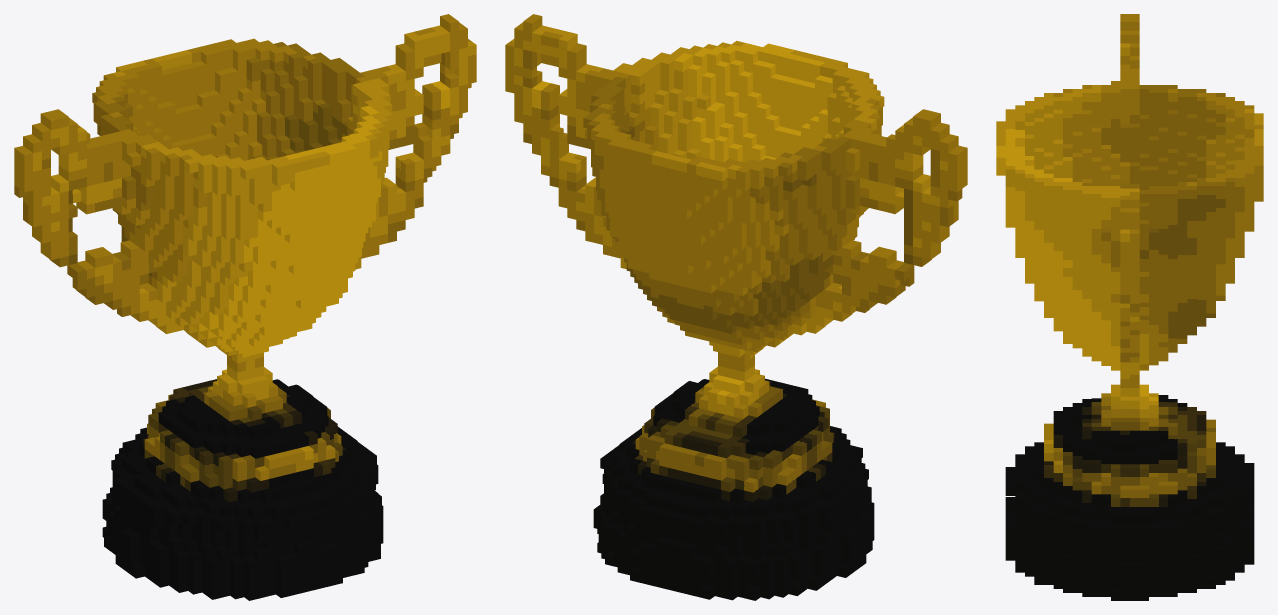
The picture shows the model from 3 angles, left to right: view 1: azimuth 30°, elevation 25°; view 2: azimuth 150°, elevation 25°; view 3: azimuth 270°, elevation 25°; orthographic projection. The views are drawn at different scales.
Visible parts, largest first — view 1: Object; view 2: Object; view 3: Object.
Boxes of the visible parts, x1,y1,x2,y2 form: Object: (14, 14, 476, 600); Object: (505, 14, 967, 600); Object: (996, 14, 1263, 600).
Size of the model in its own units: 51 by 51 by 28.
1 material, 1 textured.
